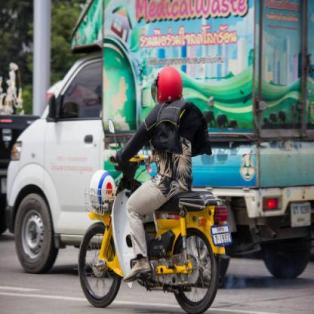Motocicleta: (74, 140, 228, 314)
